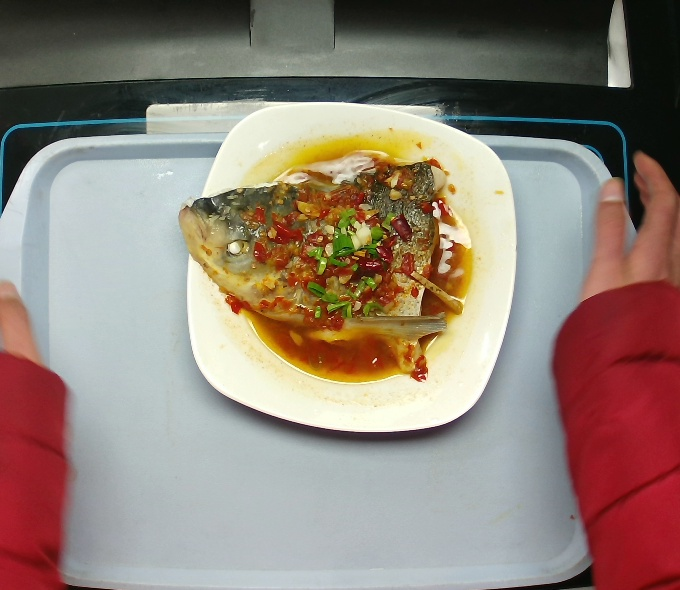wcq-DuoJiaoYuTou: (177, 139, 473, 388)
